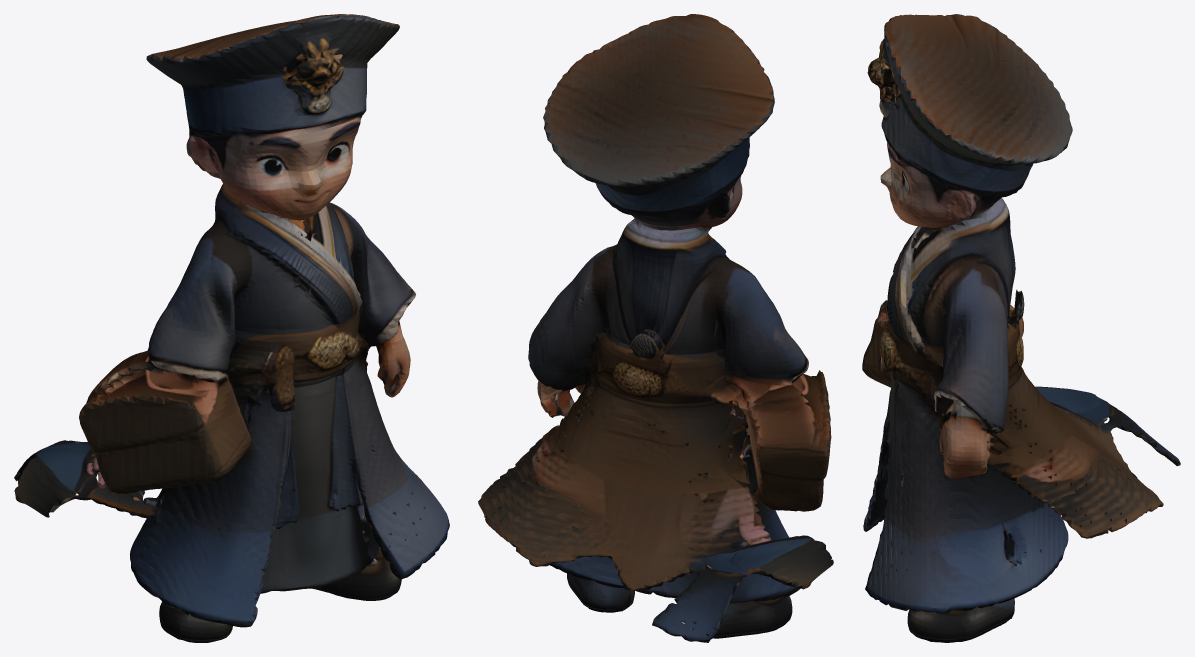
Rendered from body.glb.
3 renders of one model, left to right at view 1: azimuth 30°, elevation 25°; view 2: azimuth 150°, elevation 25°; view 3: azimuth 270°, elevation 25°, orthographic. The views are drawn at different scales.
Parts seen in each view (by area): view 1: geometry_0; view 2: geometry_0; view 3: geometry_0.
Part boxes in pixels (x1,y1,x2,y2): geometry_0: [14, 14, 449, 642]; geometry_0: [478, 14, 833, 642]; geometry_0: [862, 14, 1180, 642].
Size of the model in its own units: 1.22 by 1.96 by 0.9944.
1 material, 1 textured.
